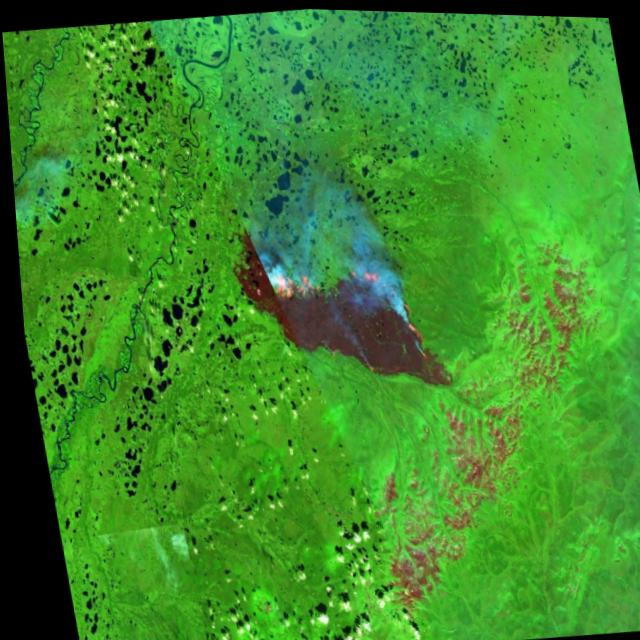fire: (239, 238, 432, 378)
